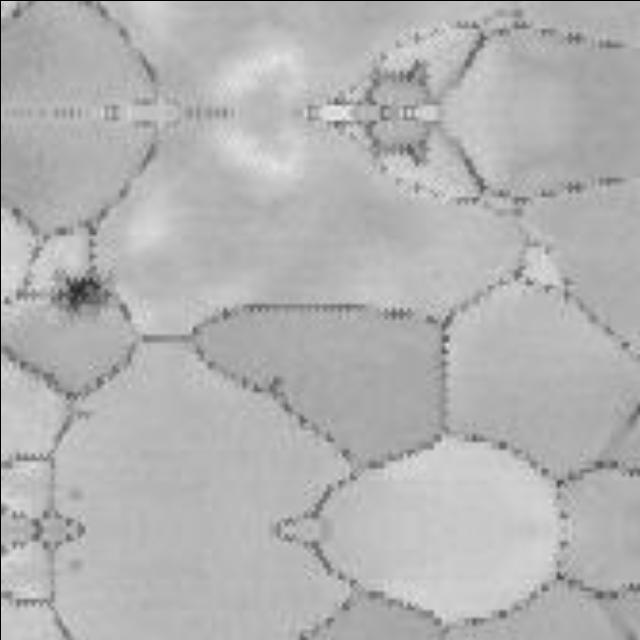good_void: (43, 254, 122, 325)
